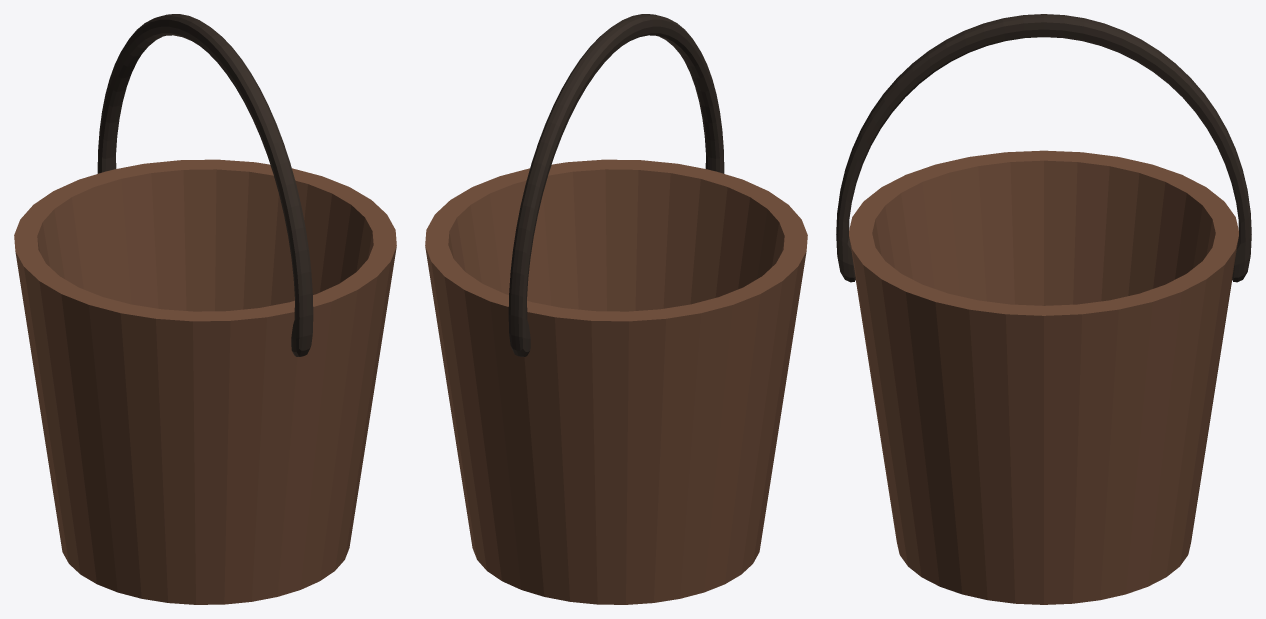
File: bucket.fbx
3 views of the same model, side by side, from view 1: azimuth 30°, elevation 25°; view 2: azimuth 150°, elevation 25°; view 3: azimuth 270°, elevation 25° (orthographic).
Parts seen in each view (by area): view 1: Cylinder, Circle; view 2: Cylinder, Circle; view 3: Cylinder, Circle.
Part boxes in pixels (x1,y1,x2,y2): Cylinder: [14, 159, 396, 604]; Circle: [97, 14, 313, 356]; Cylinder: [425, 159, 807, 604]; Circle: [508, 14, 724, 356]; Cylinder: [849, 150, 1238, 604]; Circle: [836, 14, 1251, 282].
Bounding box in the file's own units: 200 × 298 × 213.
